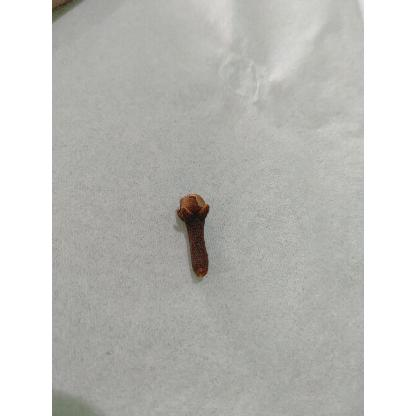baik: (176, 194, 210, 280)
